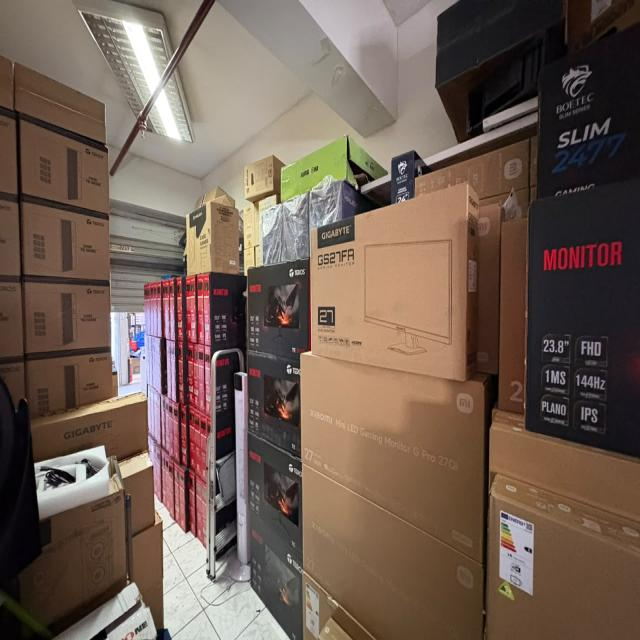caja-monitor: (301, 351, 483, 567), (309, 183, 479, 383), (302, 465, 484, 639), (526, 180, 640, 457), (488, 475, 640, 639), (538, 24, 640, 197), (489, 414, 640, 521), (248, 433, 303, 558), (250, 511, 303, 639), (415, 140, 529, 199), (247, 258, 310, 360), (247, 350, 301, 458), (499, 219, 527, 413), (477, 201, 506, 374), (303, 570, 375, 639), (203, 273, 247, 346), (179, 465, 190, 533), (178, 341, 189, 405), (155, 338, 167, 395), (177, 277, 187, 341), (181, 404, 190, 468), (169, 278, 178, 341), (198, 345, 206, 414), (189, 470, 197, 538), (197, 274, 204, 345), (171, 341, 179, 402), (190, 274, 197, 343), (162, 280, 170, 340), (168, 457, 175, 520), (173, 402, 180, 464), (196, 474, 202, 544), (201, 413, 207, 482), (193, 343, 199, 411), (190, 406, 196, 473), (174, 461, 180, 526), (188, 343, 194, 407), (166, 340, 172, 400), (156, 444, 162, 504), (196, 410, 201, 478), (156, 281, 162, 337), (186, 277, 191, 341), (155, 391, 161, 444), (169, 398, 174, 460), (153, 281, 158, 337), (202, 480, 206, 549), (162, 449, 166, 507), (161, 395, 165, 450), (150, 282, 154, 336), (152, 337, 155, 390)
